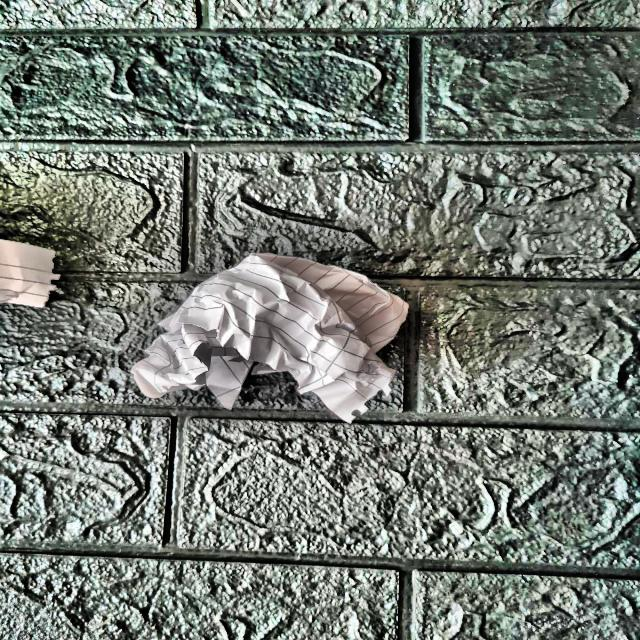Paper: (140, 250, 406, 410)
